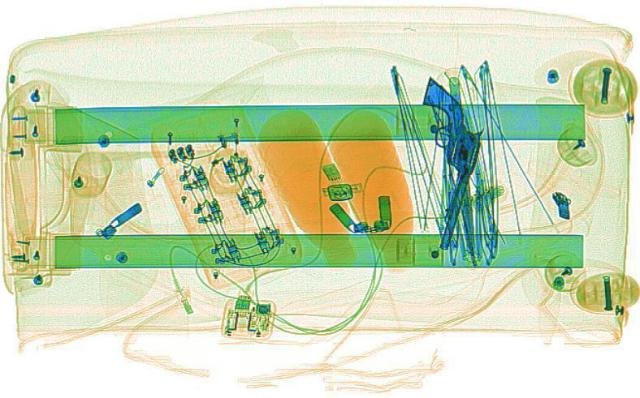Gun: (379, 75, 497, 248)
